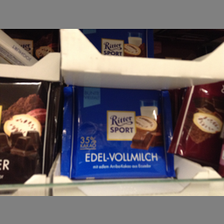chocolate: (62, 86, 177, 180), (1, 81, 44, 183)
